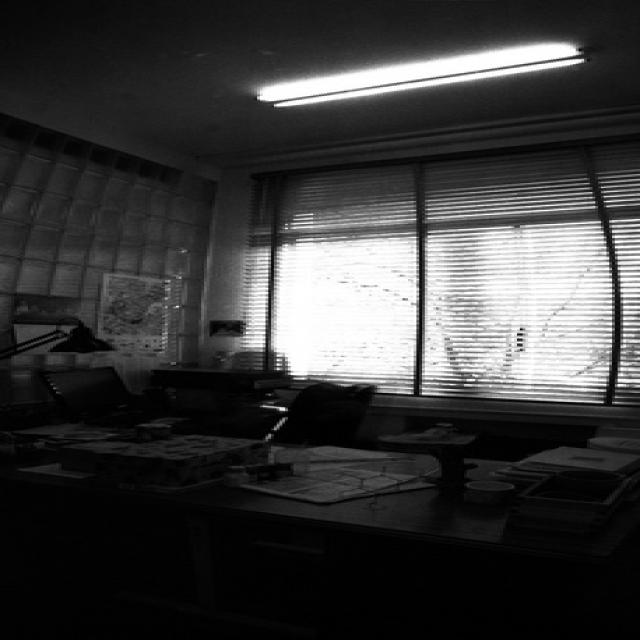Table: (0, 435, 632, 640)
chair: (48, 349, 185, 422), (306, 373, 395, 454)
